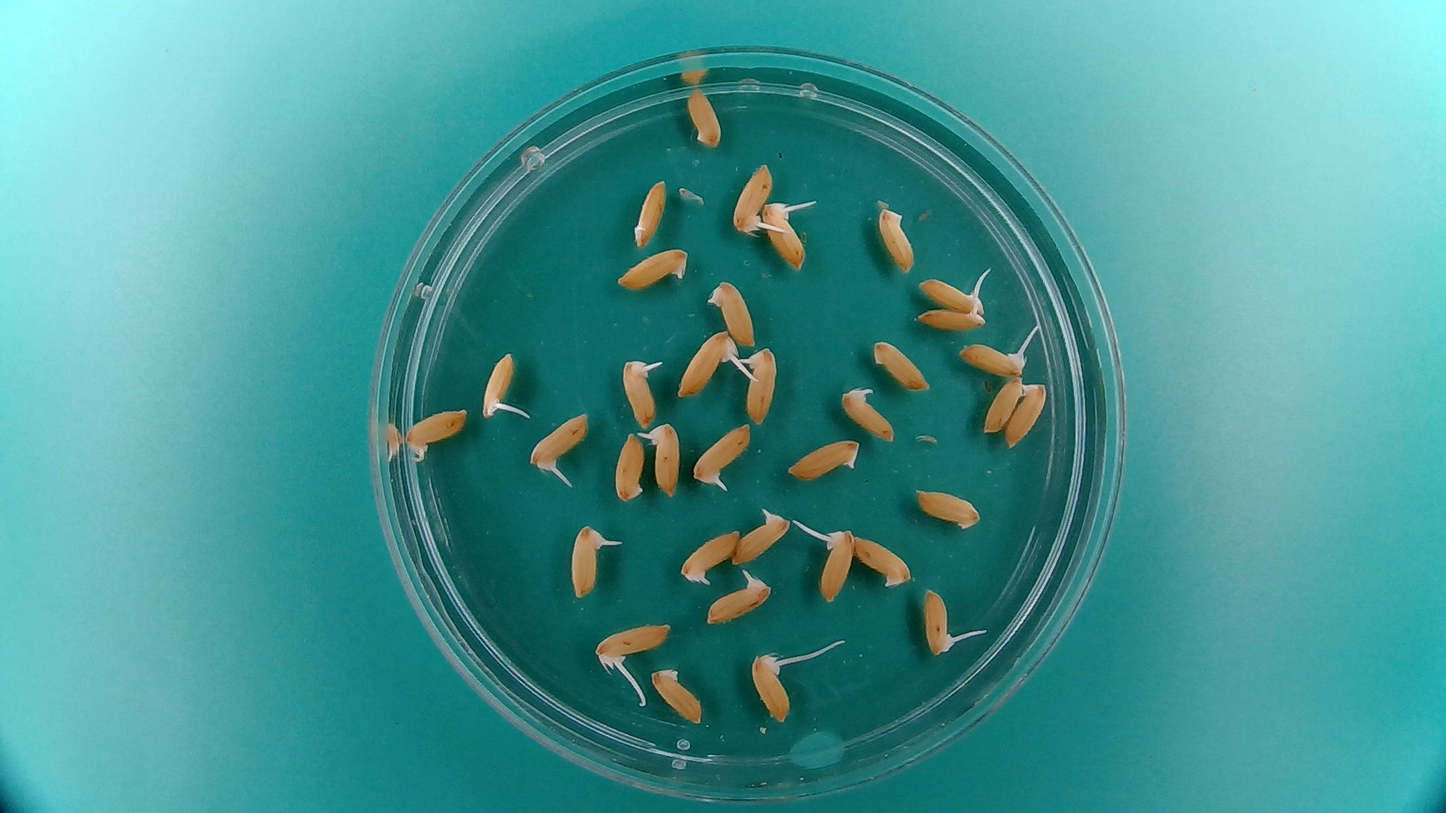no: (780, 434, 864, 484), (704, 274, 761, 347), (610, 244, 691, 293), (849, 530, 915, 589), (868, 334, 933, 393), (649, 665, 706, 726), (871, 205, 917, 277), (628, 173, 669, 250), (913, 487, 984, 531), (1005, 379, 1048, 449), (611, 427, 648, 504), (683, 86, 726, 148), (981, 373, 1024, 434)
yes: (674, 325, 742, 400), (692, 419, 757, 492), (700, 568, 775, 628), (728, 504, 795, 566), (593, 617, 674, 668), (760, 201, 815, 273), (529, 411, 592, 472), (676, 525, 742, 583), (400, 404, 468, 459), (837, 382, 898, 443), (617, 352, 664, 431), (739, 343, 781, 427), (813, 524, 856, 603), (644, 419, 685, 500), (749, 655, 795, 726), (569, 519, 606, 601), (735, 163, 773, 238), (914, 278, 988, 315), (480, 346, 517, 419), (956, 343, 1030, 378), (921, 586, 956, 658), (912, 303, 989, 333)
